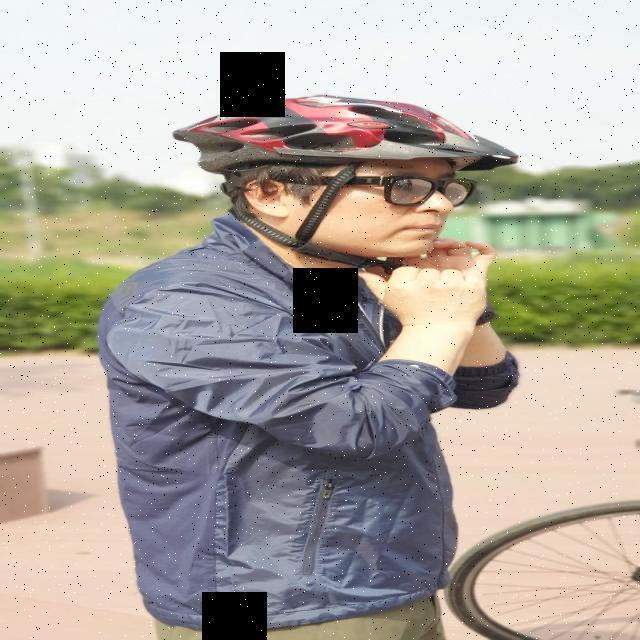helmet: (174, 90, 510, 274)
